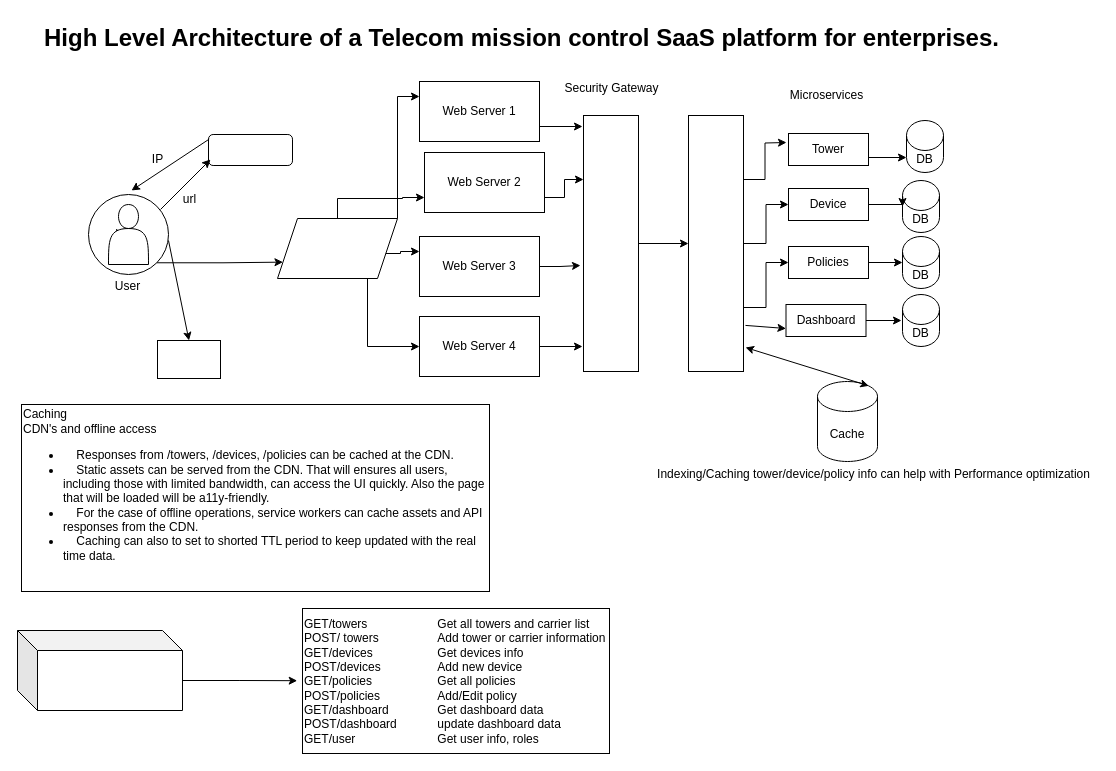
Image size: 1116x771. Some labels were removed from this diagram. The shapes that lost their labels are listed below. From the top down, each one's centre as x and y in pixels, then its label:
At (x=250, y=150): "DNS".
At (x=337, y=248): "Load Balancer".
At (x=610, y=243): "Auth Provider".
At (x=716, y=243): "API Gateway".
At (x=188, y=359): "CDN's".
At (x=99, y=670): "Restful API end points".
